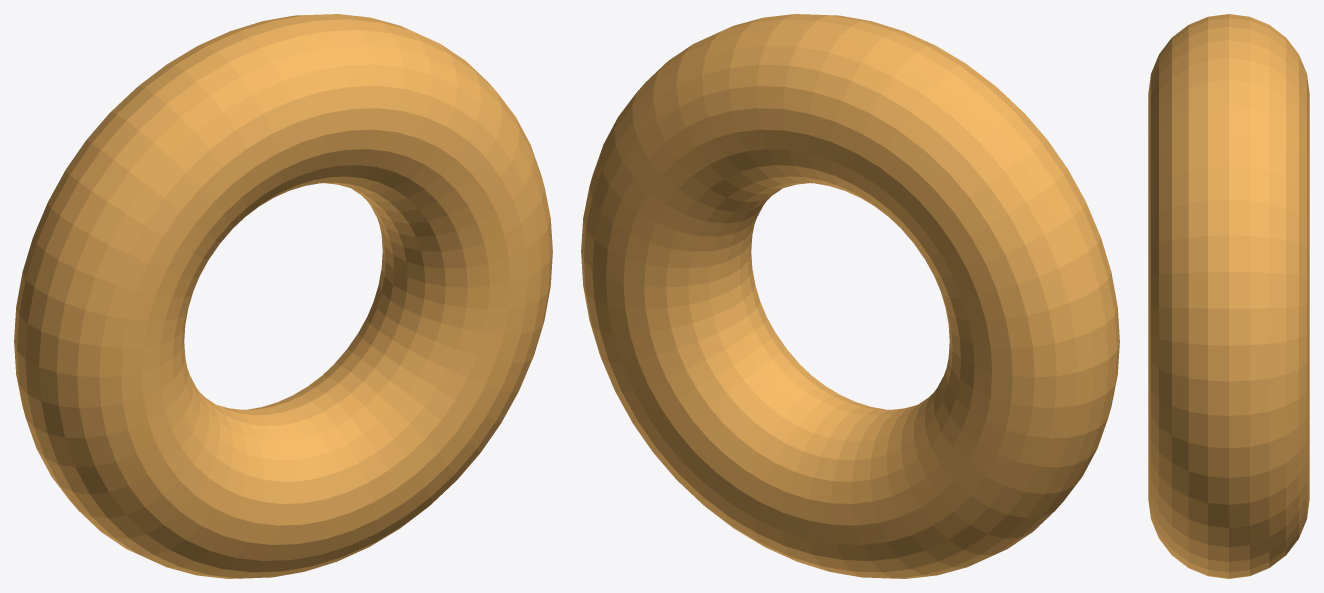
3 views of the same model, side by side, from view 1: azimuth 30°, elevation 25°; view 2: azimuth 150°, elevation 25°; view 3: azimuth 270°, elevation 25° (orthographic). The views are drawn at different scales.
Visible parts, largest first — view 1: donut; view 2: donut; view 3: donut.
Boxes of the visible parts, bbox=[...] form: donut: bbox=[14, 14, 552, 578]; donut: bbox=[581, 14, 1119, 578]; donut: bbox=[1148, 14, 1309, 578].
Size of the model in its own units: 2.8 by 2.8 by 0.8.
